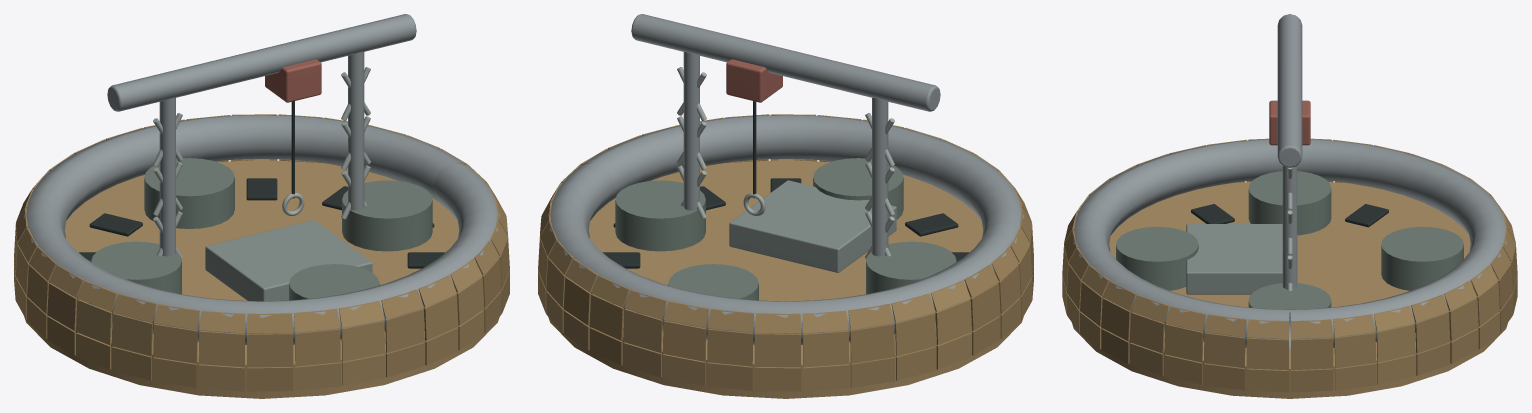
The picture shows the model from 3 angles, left to right: view 1: azimuth 30°, elevation 25°; view 2: azimuth 150°, elevation 25°; view 3: azimuth 270°, elevation 25°; orthographic projection. The views are drawn at different scales.
Parts seen in each view (by area): view 1: Shipyard retaining wall plates, Shipyard perimeter wall, Foundation drum, Shipyard crane beam, Shipyard docking cradle, Shipyard machinery pad, Shipyard machinery pad.001, Shipyard machinery pad.002, Shipyard gantry upright.001, Shipyard gantry upright, Shipyard machinery pad.003, Crane trolley (+3 smaller); view 2: Shipyard retaining wall plates, Shipyard perimeter wall, Foundation drum, Shipyard docking cradle, Shipyard crane beam, Shipyard machinery pad, Shipyard machinery pad.002, Shipyard machinery pad.003, Shipyard gantry upright.001, Shipyard gantry upright, Shipyard machinery pad.001, Crane trolley (+2 smaller); view 3: Shipyard retaining wall plates, Shipyard perimeter wall, Foundation drum, Shipyard docking cradle, Shipyard machinery pad.001, Shipyard machinery pad.003, Shipyard crane beam, Shipyard machinery pad.002, Shipyard machinery pad, Shipyard gantry upright.001, Crane trolley, Shipyard deck grating.005 (+1 smaller).
Part boxes in pixels (x1,y1,x2,y2): Shipyard retaining wall plates: (14,114,509,391); Shipyard perimeter wall: (23,115,500,344); Foundation drum: (24,159,499,398); Shipyard crane beam: (107,14,416,111); Shipyard docking cradle: (205,220,372,301); Shipyard machinery pad: (342,180,432,251); Shipyard machinery pad.001: (144,158,234,228); Shipyard machinery pad.002: (91,241,181,294); Shipyard gantry upright.001: (348,52,364,210); Shipyard gantry upright: (159,98,175,256); Shipyard machinery pad.003: (289,264,379,300); Crane trolley: (265,59,321,102); Shipyard retaining wall plates: (538,114,1033,391); Shipyard perimeter wall: (547,115,1024,344); Foundation drum: (548,159,1023,398); Shipyard docking cradle: (729,180,896,272); Shipyard crane beam: (631,14,940,111); Shipyard machinery pad: (615,180,705,251); Shipyard machinery pad.002: (866,241,956,294); Shipyard machinery pad.003: (813,158,903,219); Shipyard gantry upright.001: (683,52,699,210); Shipyard gantry upright: (872,98,888,256); Shipyard machinery pad.001: (668,264,758,300); Crane trolley: (726,59,782,102); Shipyard retaining wall plates: (1062,138,1517,392); Shipyard perimeter wall: (1072,139,1507,349); Foundation drum: (1072,182,1507,398); Shipyard docking cradle: (1186,224,1282,294); Shipyard machinery pad.001: (1381,226,1463,290); Shipyard machinery pad.003: (1116,226,1198,290); Shipyard crane beam: (1277,14,1302,167); Shipyard machinery pad.002: (1248,171,1331,235); Shipyard machinery pad: (1248,283,1331,309); Shipyard gantry upright.001: (1282,166,1297,288); Crane trolley: (1269,100,1310,145); Shipyard deck grating.005: (1345,204,1388,227).
Bounding box in the file's own units: 2.75 × 1.49 × 2.75.
